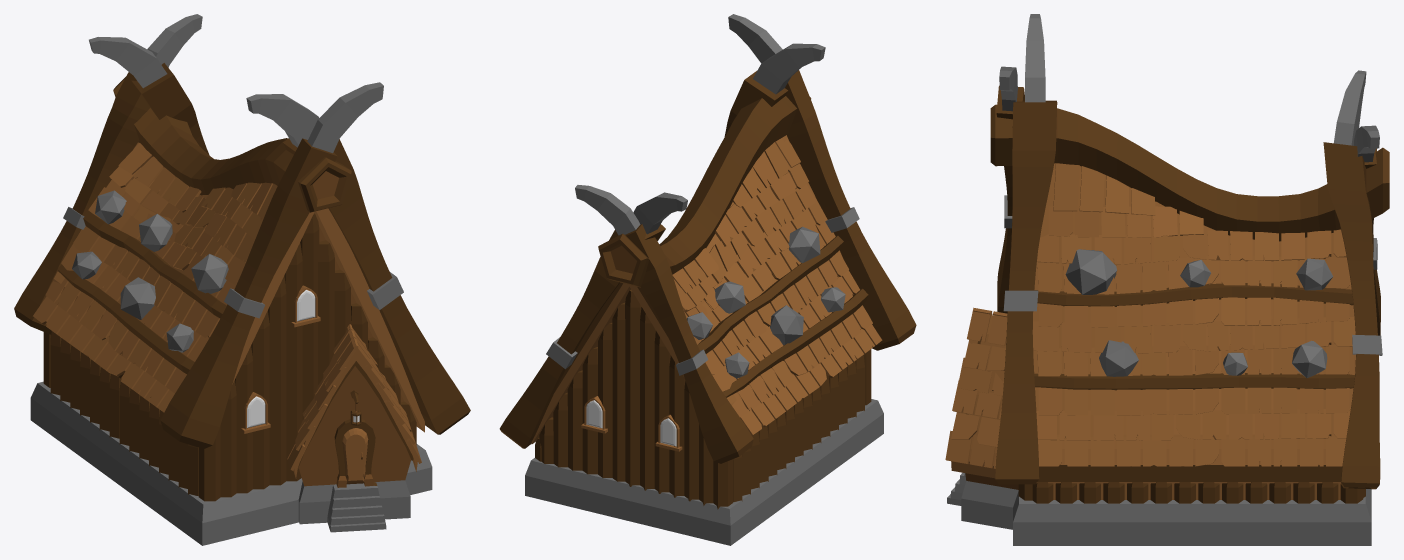
The model's file is B_BaseB.fbx.
The picture shows the model from 3 angles, left to right: view 1: azimuth 30°, elevation 25°; view 2: azimuth 150°, elevation 25°; view 3: azimuth 270°, elevation 25°; orthographic projection. The views are drawn at different scales.
Visible parts, largest first — view 1: B_BaseB; view 2: B_BaseB; view 3: B_BaseB.
Boxes of the visible parts, x1,y1,x2,y2 form: B_BaseB: (14, 14, 470, 545); B_BaseB: (499, 14, 916, 545); B_BaseB: (945, 14, 1389, 545).
Size of the model in its own units: 627 by 883 by 800.
